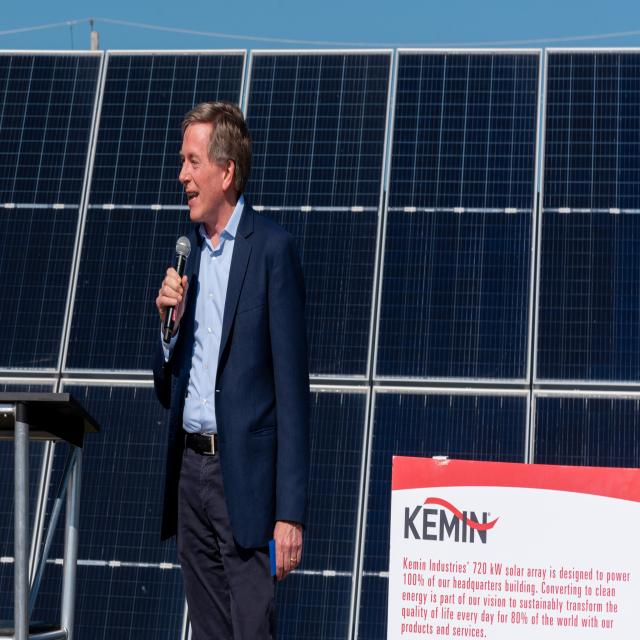clean-solar-panel: (0, 49, 640, 639)
